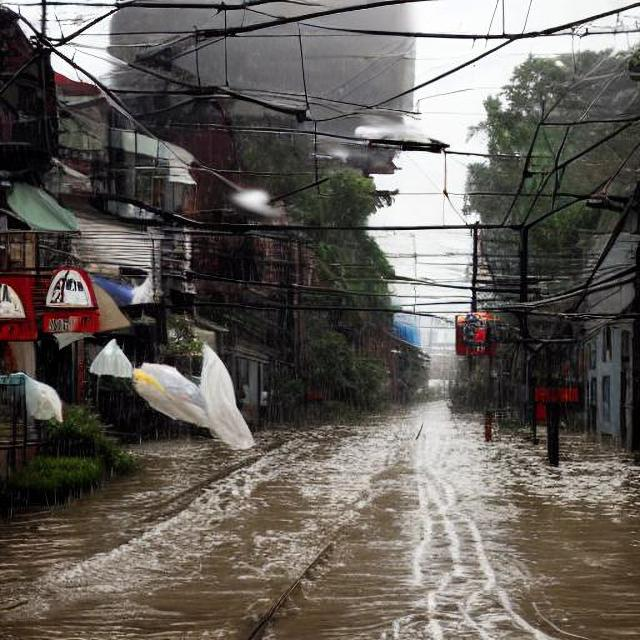floating object: (89, 340, 254, 447), (20, 371, 64, 421)
